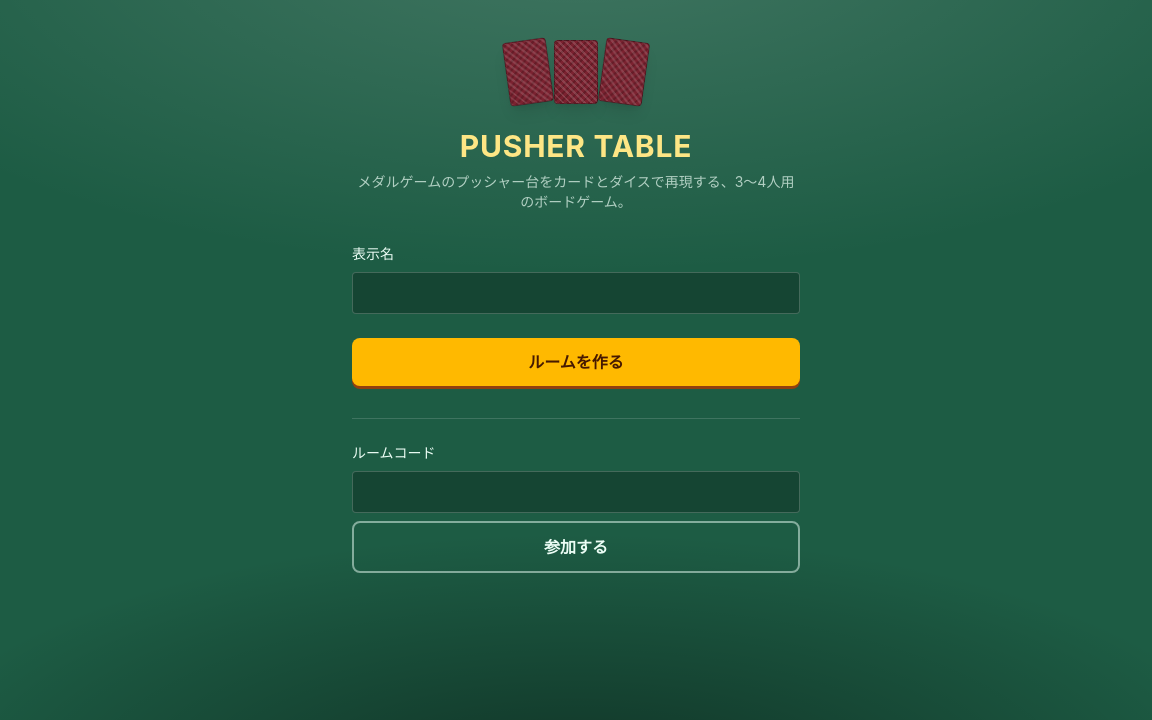
Test: トップ画面 › ルームを作るとロビーへ移る
Type "あき" into the field labelled "表示名" at {"x": 576, "y": 293}, box [352, 272, 800, 314]
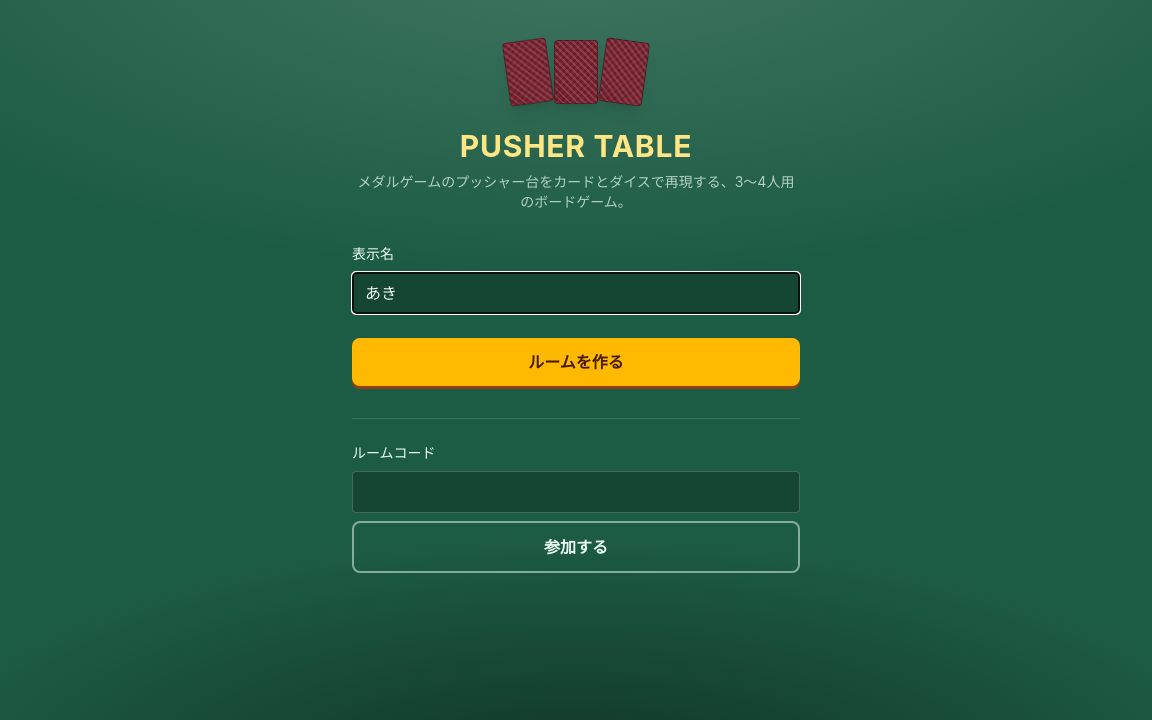
Click the button "ルームを作る" at {"x": 576, "y": 362}, box [352, 338, 800, 386]
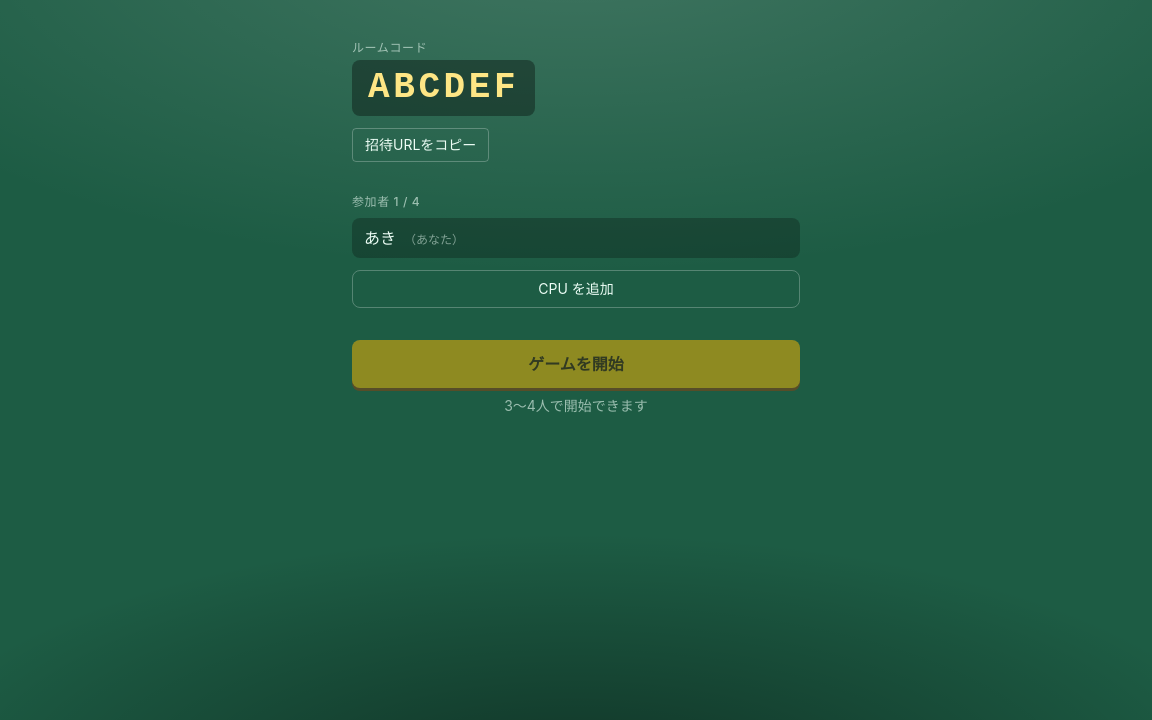
Expected: the text "ABCDEF" is shown, [352, 60, 535, 116]
